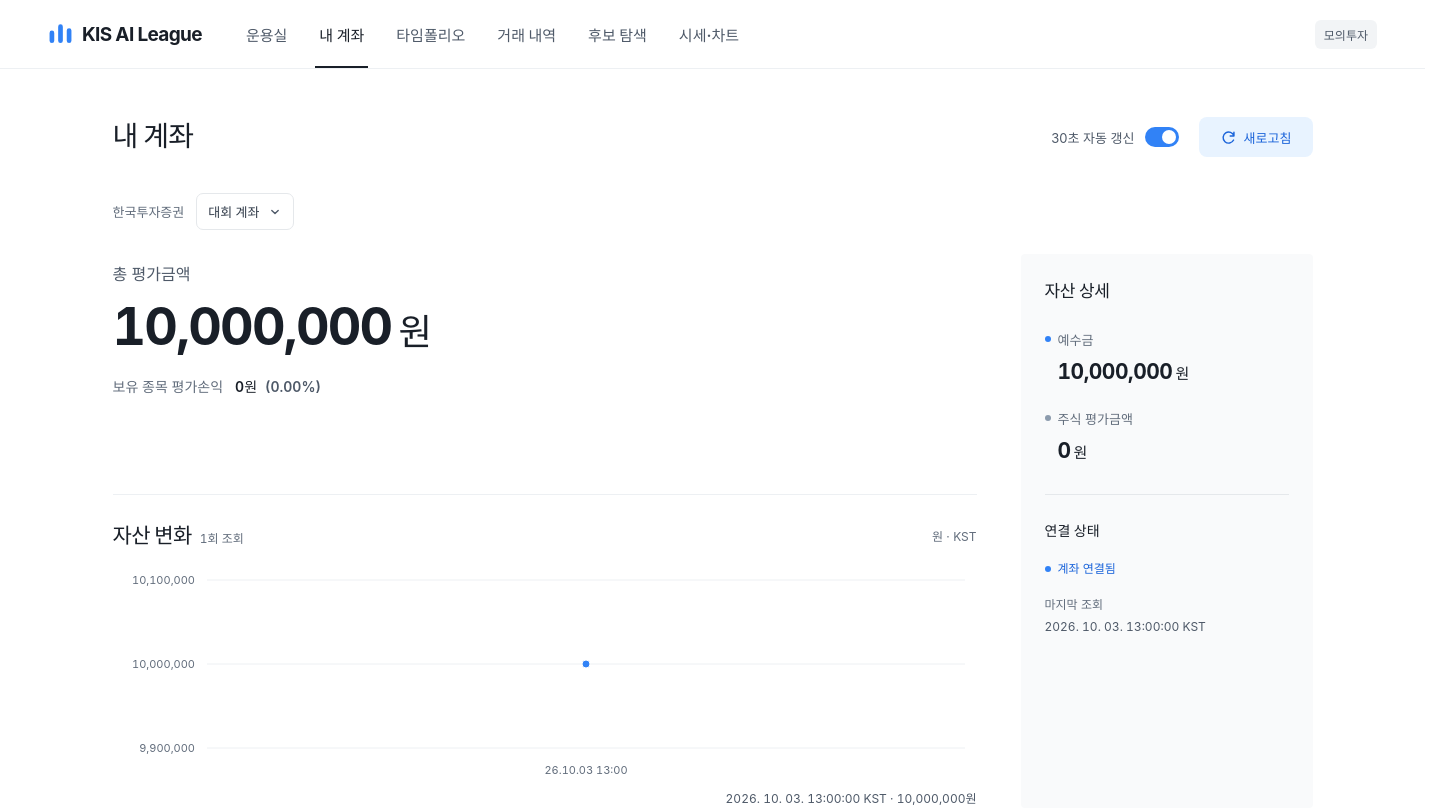
Test: page navigation › loads Timefolio only on its route and preserves the selected KIS account
Expected: the text with id "connection-label" reads "계좌 연결됨", [1058,561,1116,576]
Click the link "타임폴리오" at (431, 35), box [396,26,465,44]
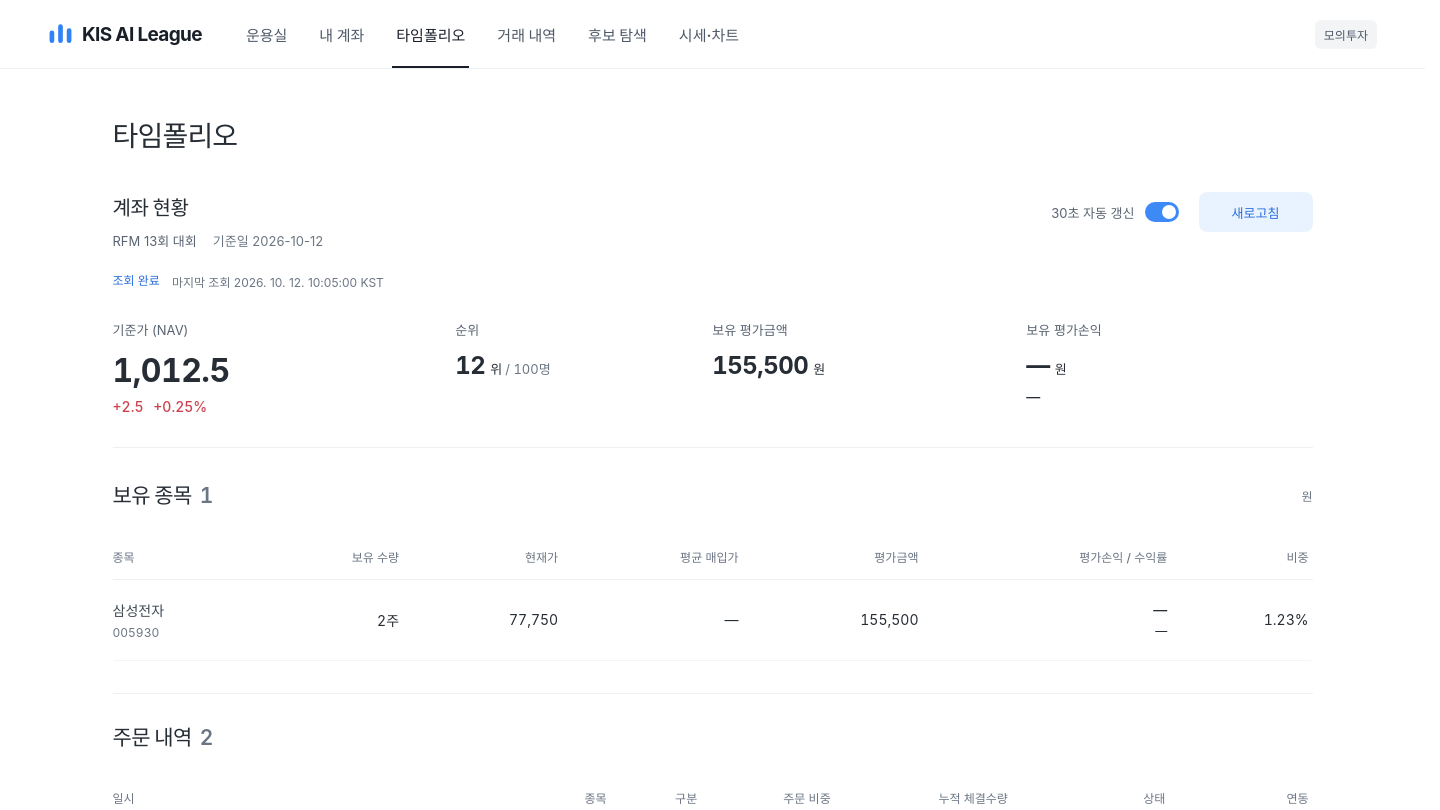
Expected: the text "1,012.5" is shown, [112,351,230,390]
Click the link "내 계좌" at (342, 35), box [319,26,364,44]
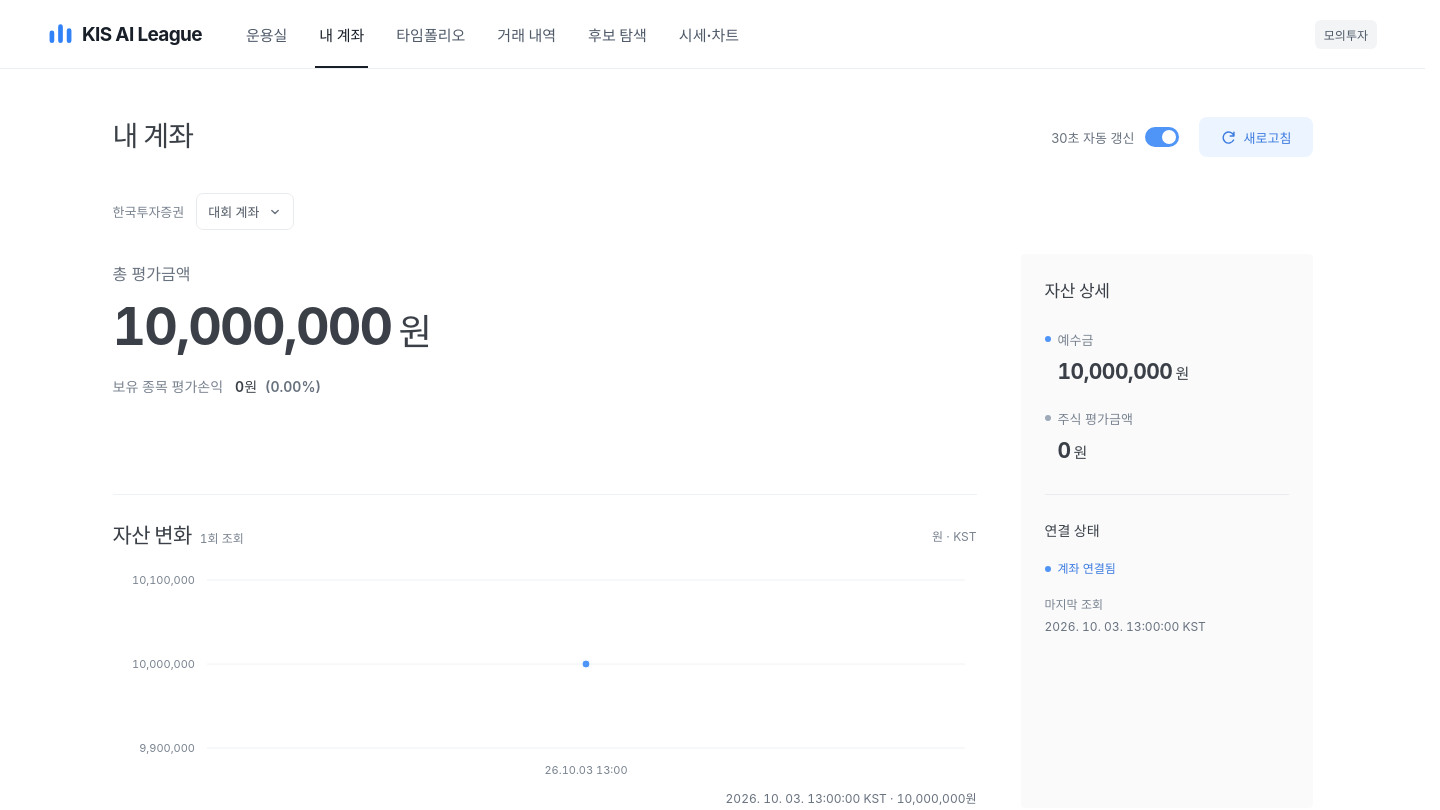
Expected: the text with id "connection-label" reads "계좌 연결됨", [1058,561,1116,576]
Expected: the heading "계좌 현황" is gone
